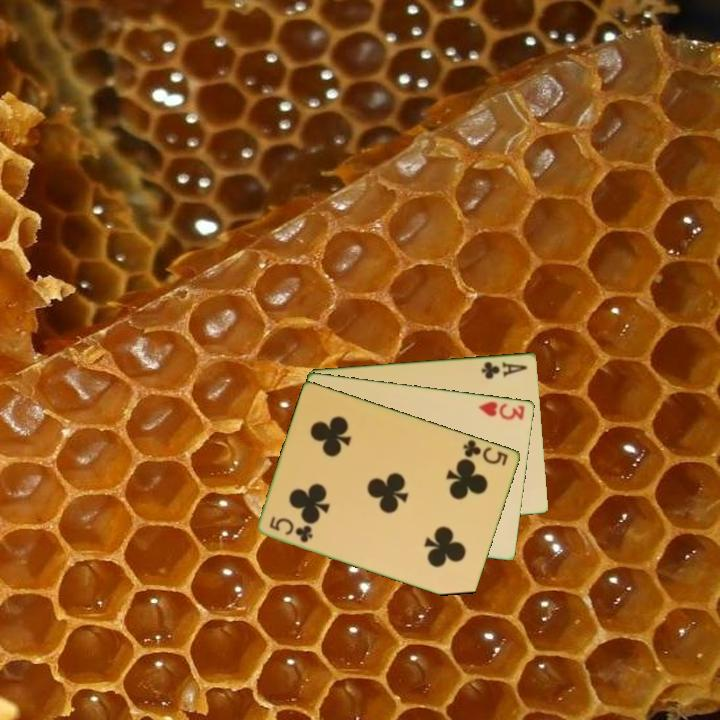3h: (476, 397, 528, 423)
5c: (460, 436, 511, 468), (266, 513, 316, 545)
Ac: (478, 358, 530, 381)
